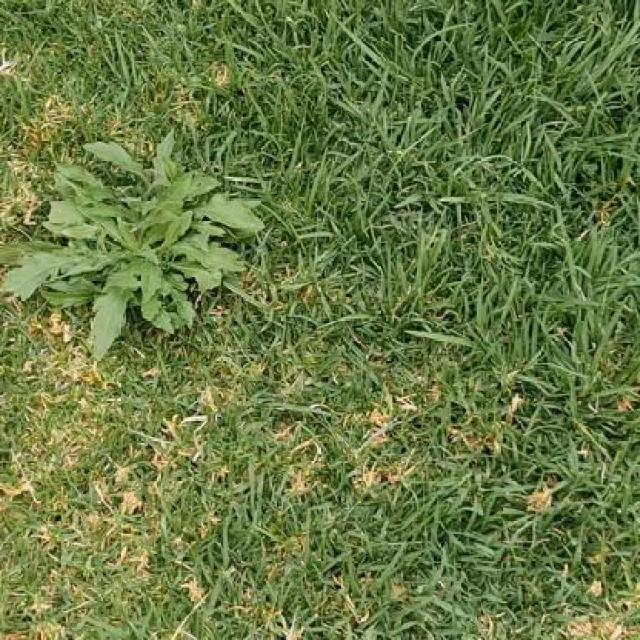weed: (0, 135, 263, 358)
